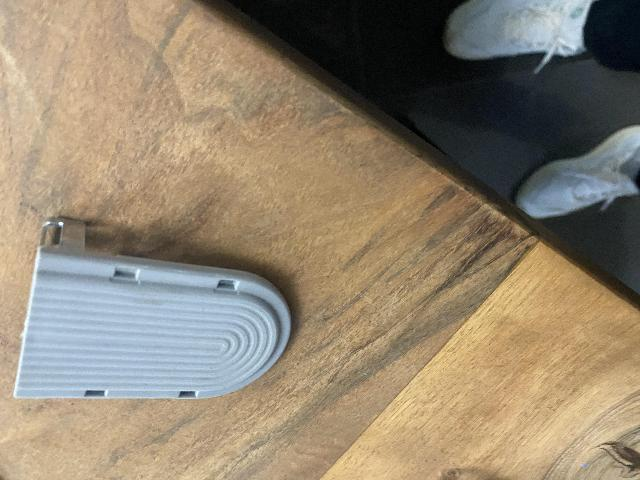Plastik: (14, 219, 290, 413)
